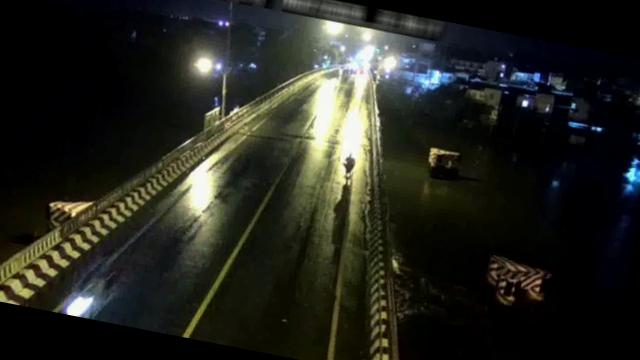Bike: (340, 148, 357, 182)
